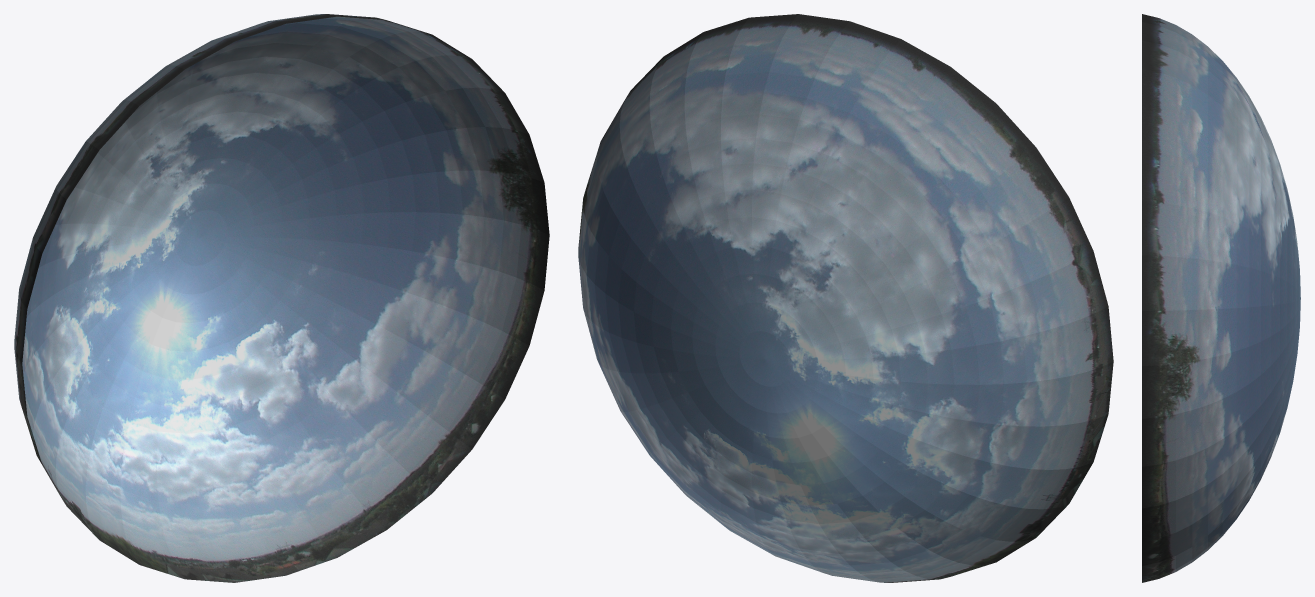
File: sky.obj
The picture shows the model from 3 angles, left to right: view 1: azimuth 30°, elevation 25°; view 2: azimuth 150°, elevation 25°; view 3: azimuth 270°, elevation 25°; orthographic projection. The views are drawn at different scales.
Size of the model in its own units: 101 by 101 by 28.13.
